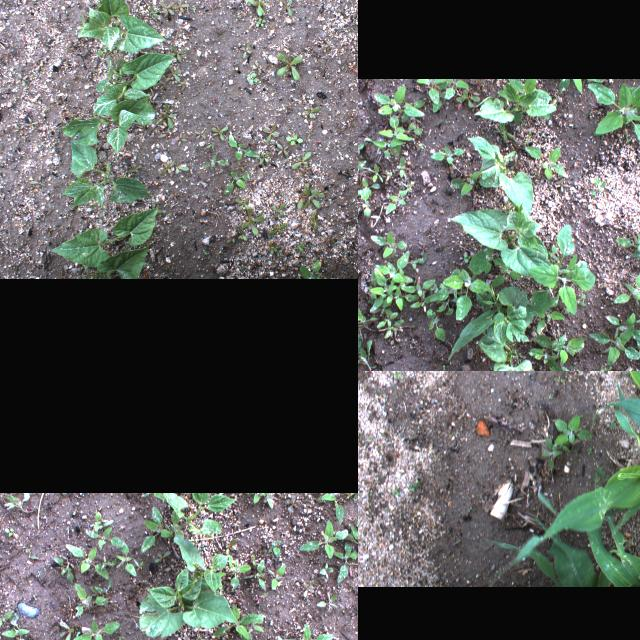crop: (503, 405, 640, 571), (480, 482, 640, 586), (447, 254, 568, 371), (61, 54, 176, 152), (538, 371, 640, 462), (49, 204, 161, 278), (448, 202, 546, 276), (528, 220, 598, 318), (139, 567, 237, 637), (62, 140, 154, 212), (73, 0, 168, 62), (467, 133, 535, 214), (469, 78, 558, 124), (162, 492, 238, 544), (587, 79, 640, 150), (175, 537, 228, 593), (613, 221, 640, 304)
weed: (369, 248, 451, 316), (439, 248, 498, 320), (360, 112, 424, 162), (587, 311, 640, 363), (524, 331, 588, 371), (414, 80, 488, 114), (298, 518, 350, 558), (211, 602, 265, 640), (370, 84, 426, 118), (524, 143, 568, 180), (64, 544, 110, 578), (141, 503, 171, 551), (71, 582, 109, 618), (366, 229, 412, 257), (554, 415, 594, 445), (233, 198, 264, 236), (224, 126, 256, 162), (384, 180, 416, 214), (218, 555, 248, 589), (335, 540, 358, 583), (428, 142, 466, 168), (70, 620, 119, 640), (282, 621, 333, 640), (274, 52, 306, 82), (294, 182, 326, 212), (84, 526, 124, 550), (378, 310, 404, 346), (611, 274, 640, 306), (156, 102, 180, 138), (424, 307, 446, 345), (242, 559, 268, 591), (320, 492, 346, 524), (542, 436, 564, 472), (1, 613, 29, 640), (116, 542, 138, 576), (245, 56, 268, 88), (52, 554, 76, 584), (452, 170, 478, 197), (222, 170, 252, 193), (286, 150, 314, 174), (166, 64, 190, 92), (156, 0, 192, 18), (358, 333, 375, 371), (12, 114, 40, 136), (358, 307, 380, 334), (261, 120, 285, 144), (160, 158, 192, 176), (3, 492, 31, 512), (247, 0, 268, 26), (209, 121, 235, 142), (164, 42, 188, 64), (347, 515, 358, 563), (298, 258, 324, 278), (358, 174, 378, 200), (372, 160, 392, 186), (587, 172, 607, 198), (234, 36, 256, 59), (202, 154, 232, 170), (271, 563, 287, 593), (556, 78, 584, 95), (316, 592, 338, 612), (358, 149, 370, 184), (394, 152, 410, 178), (273, 0, 297, 17), (300, 100, 320, 120), (270, 198, 288, 220), (140, 3, 162, 20), (492, 126, 518, 140), (290, 235, 310, 253), (241, 246, 261, 264), (190, 123, 208, 143), (358, 198, 378, 216), (93, 510, 113, 528), (172, 126, 188, 148), (89, 580, 111, 596), (280, 493, 298, 512), (57, 620, 74, 640), (226, 232, 250, 246), (27, 174, 47, 190), (269, 223, 289, 239), (15, 69, 30, 89), (266, 539, 282, 557), (316, 560, 332, 578), (286, 132, 306, 146), (258, 148, 272, 168), (125, 160, 145, 174), (416, 240, 432, 256), (276, 144, 294, 158), (264, 241, 282, 255), (153, 550, 171, 564), (252, 616, 266, 634), (308, 210, 318, 234), (138, 492, 166, 500), (444, 114, 462, 126), (224, 537, 236, 555), (302, 580, 314, 598), (203, 140, 220, 152), (0, 609, 12, 626), (20, 0, 42, 9), (349, 0, 358, 22), (247, 492, 265, 503), (317, 40, 335, 50), (598, 362, 618, 371), (358, 139, 368, 156), (200, 247, 216, 257), (100, 558, 116, 568), (266, 492, 274, 510), (622, 132, 632, 146), (438, 362, 453, 371), (134, 558, 144, 570), (211, 0, 221, 10), (408, 482, 418, 492), (3, 528, 15, 536), (209, 95, 219, 104), (177, 635, 193, 640), (352, 492, 358, 503), (116, 633, 125, 640), (392, 372, 402, 378), (252, 552, 256, 564), (392, 488, 400, 494), (74, 630, 80, 636), (0, 636, 4, 640)
